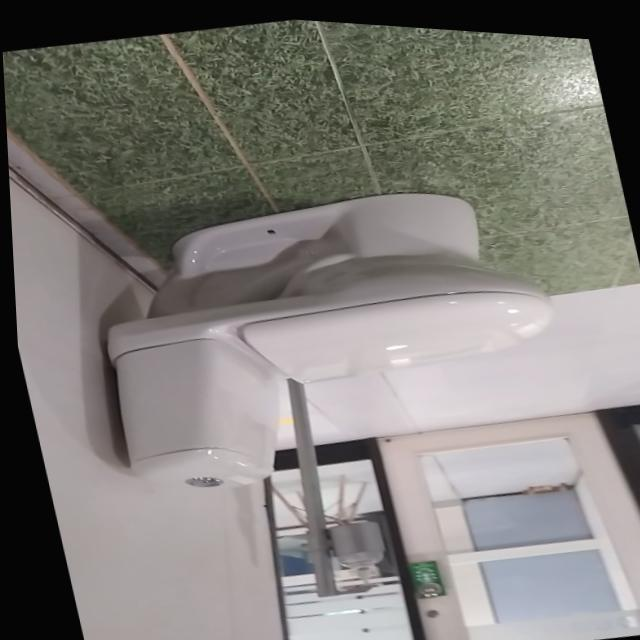toilet: (69, 147, 584, 520)
